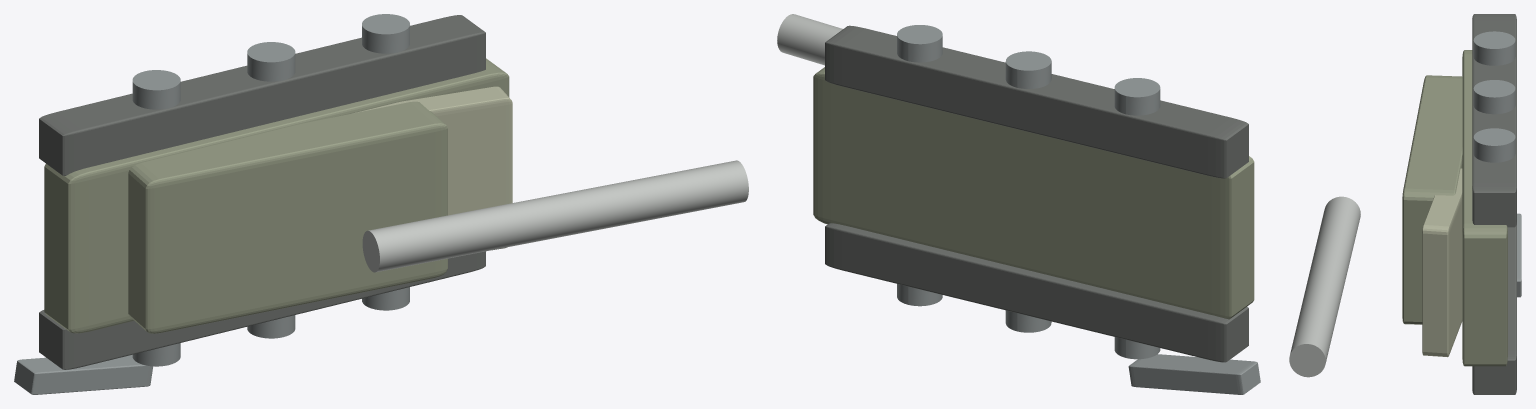
Rendered from v-u16-vanguard-self-propelled-howitzer-lod2.glb.
The picture shows the model from 3 angles, left to right: view 1: azimuth 30°, elevation 25°; view 2: azimuth 150°, elevation 25°; view 3: azimuth 270°, elevation 25°; orthographic projection. The views are drawn at different scales.
Visible parts, largest first — view 1: upper_hull, chassis_track_1, chassis_lower, howitzer_barrel_0, chassis_glacis, chassis_track_-1, stabilizer_-1, chassis_roadwheel_1_1, chassis_roadwheel_1_3, chassis_roadwheel_1_5, chassis_roadwheel_-1_3, chassis_roadwheel_-1_1 (+1 smaller); view 2: chassis_lower, chassis_track_1, chassis_track_-1, stabilizer_-1, howitzer_barrel_0, chassis_roadwheel_1_1, chassis_roadwheel_1_3, chassis_roadwheel_1_5, chassis_roadwheel_-1_3, chassis_roadwheel_-1_1, chassis_roadwheel_-1_5; view 3: upper_hull, chassis_lower, howitzer_barrel_0, chassis_glacis, chassis_track_1, chassis_track_-1, chassis_roadwheel_1_1, chassis_roadwheel_1_5, chassis_roadwheel_1_3, stabilizer_-1.
Part boxes in pixels (<box>): upper_hull: <box>128,101,447,333</box>; chassis_track_1: <box>39,15,485,175</box>; chassis_lower: <box>44,58,509,333</box>; howitzer_barrel_0: <box>362,160,748,272</box>; chassis_glacis: <box>355,86,512,250</box>; chassis_track_-1: <box>39,251,485,369</box>; stabilizer_-1: <box>14,354,153,394</box>; chassis_roadwheel_1_1: <box>132,70,180,109</box>; chassis_roadwheel_1_3: <box>247,42,295,81</box>; chassis_roadwheel_1_5: <box>362,14,409,53</box>; chassis_roadwheel_-1_3: <box>247,315,295,338</box>; chassis_roadwheel_-1_1: <box>132,343,180,366</box>; chassis_lower: <box>813,67,1254,319</box>; chassis_track_1: <box>825,25,1248,178</box>; chassis_track_-1: <box>825,223,1248,362</box>; stabilizer_-1: <box>1128,354,1260,394</box>; howitzer_barrel_0: <box>777,14,842,65</box>; chassis_roadwheel_1_1: <box>1114,78,1160,115</box>; chassis_roadwheel_1_3: <box>1005,51,1051,88</box>; chassis_roadwheel_1_5: <box>897,25,942,62</box>; chassis_roadwheel_-1_3: <box>1005,310,1051,332</box>; chassis_roadwheel_-1_1: <box>1114,337,1160,359</box>; chassis_roadwheel_-1_5: <box>897,284,942,306</box>; upper_hull: <box>1402,75,1462,324</box>; chassis_lower: <box>1462,50,1507,366</box>; howitzer_barrel_0: <box>1289,196,1360,377</box>; chassis_glacis: <box>1422,168,1462,357</box>; chassis_track_1: <box>1472,14,1516,227</box>; chassis_track_-1: <box>1472,222,1516,394</box>; chassis_roadwheel_1_1: <box>1473,31,1515,65</box>; chassis_roadwheel_1_5: <box>1473,128,1515,162</box>; chassis_roadwheel_1_3: <box>1473,80,1515,114</box>; stabilizer_-1: <box>1517,213,1521,297</box>.
Size of what is drawn, in the model's own units: 9.46 by 4.51 by 3.64.
